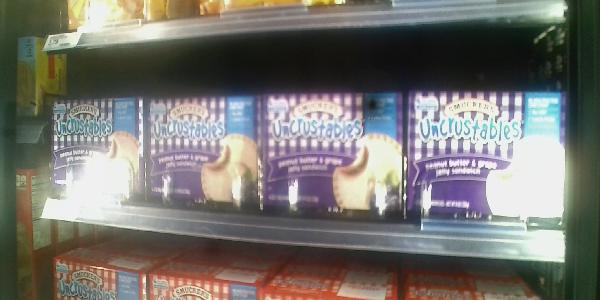icecream: (250, 81, 412, 242), (413, 76, 571, 239), (150, 89, 263, 242), (42, 96, 149, 211)
